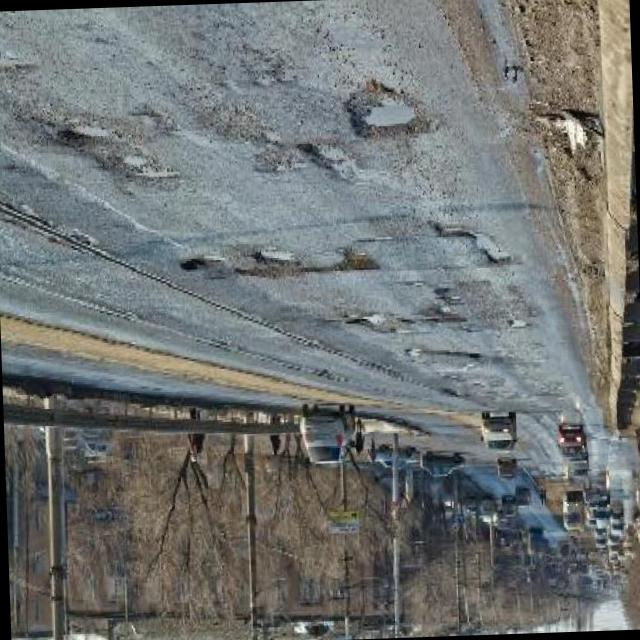pothole: (54, 122, 181, 190), (345, 79, 435, 144), (428, 217, 516, 271), (296, 138, 351, 176), (338, 307, 393, 339), (235, 264, 312, 284), (338, 245, 382, 277), (252, 248, 304, 272), (425, 302, 467, 329), (179, 256, 212, 278), (508, 319, 532, 335), (404, 346, 424, 362)
